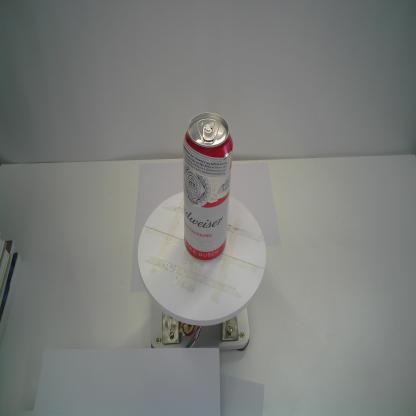Alcohol: (182, 112, 233, 262)
